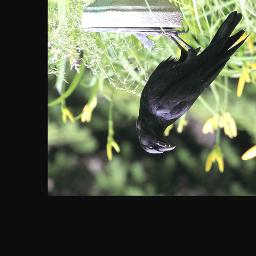Crow: (136, 9, 251, 154)
